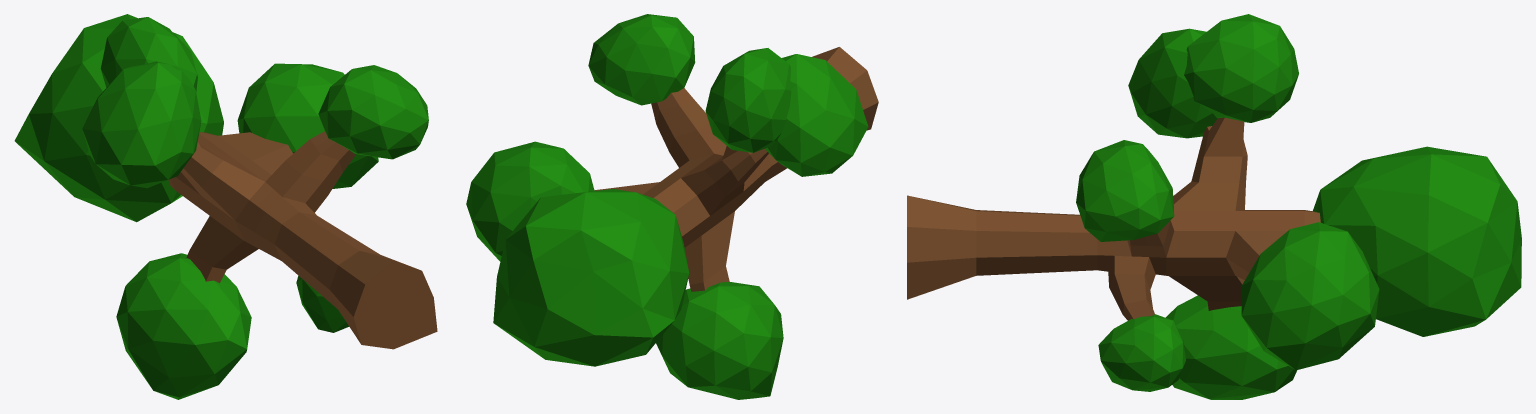
Rendered from arvore005.fbx.
3 renders of one model, left to right at view 1: azimuth 30°, elevation 25°; view 2: azimuth 150°, elevation 25°; view 3: azimuth 270°, elevation 25°, orthographic. The views are drawn at different scales.
Visible parts, largest first — view 1: Folhas; view 2: Folhas; view 3: Folhas.
Part boxes in pixels (box(x1,y1,x2,y2)): Folhas: box(14, 14, 437, 399); Folhas: box(466, 14, 878, 399); Folhas: box(907, 14, 1521, 399).
Bounding box in the file's own units: 448 × 483 × 719.
